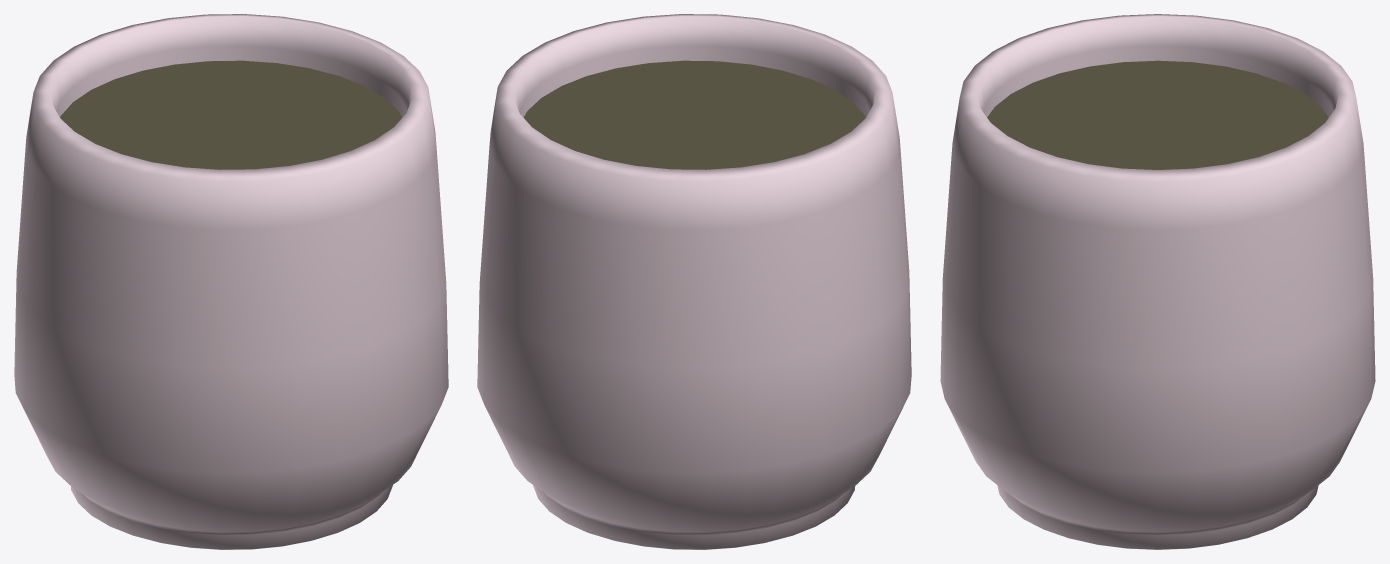
The model's file is PoisonedTea.fbx.
3 views of the same model, side by side, from view 1: azimuth 30°, elevation 25°; view 2: azimuth 150°, elevation 25°; view 3: azimuth 270°, elevation 25° (orthographic).
Visible parts, largest first — view 1: Teacup, TeaLiquid; view 2: Teacup, TeaLiquid; view 3: Teacup, TeaLiquid.
Part boxes in pixels (x1,y1,x2,y2): Teacup: [14, 14, 448, 549]; TeaLiquid: [60, 60, 402, 169]; Teacup: [477, 14, 911, 549]; TeaLiquid: [523, 60, 865, 169]; Teacup: [940, 14, 1375, 549]; TeaLiquid: [987, 60, 1328, 169].
Bounding box in the file's own units: 21.36 × 21.15 × 21.36.
